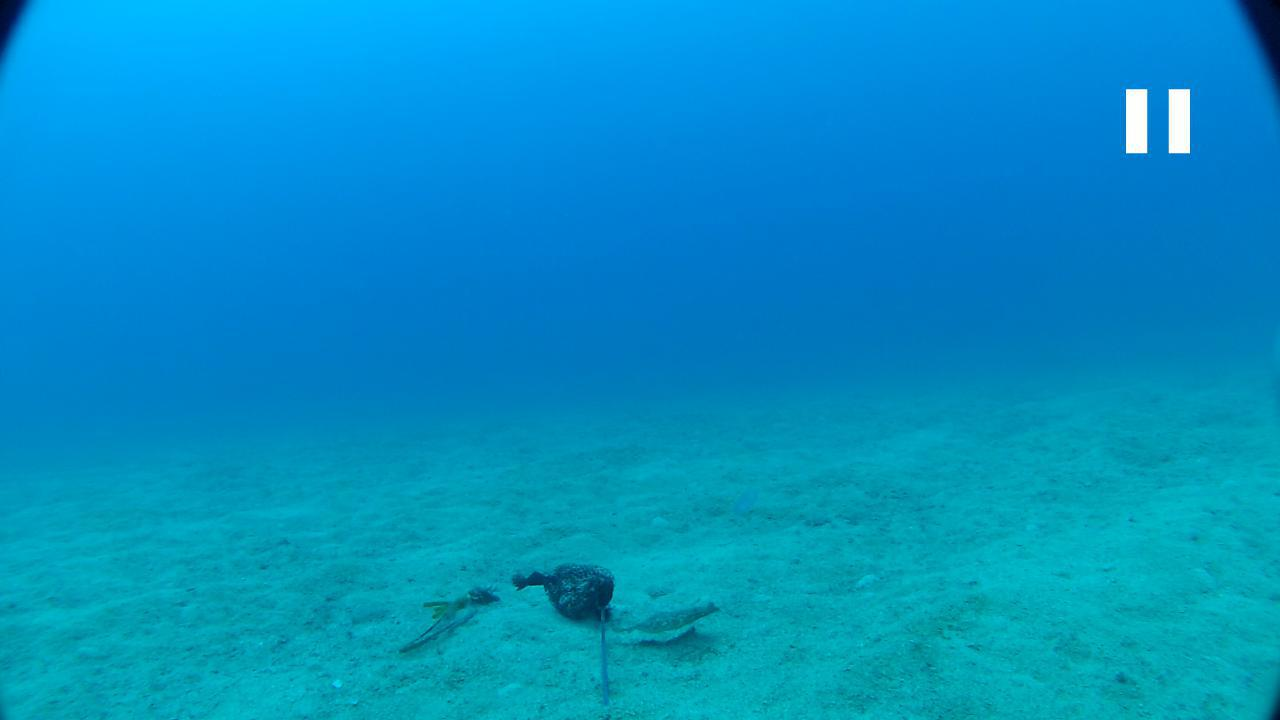bothus: (616, 600, 716, 636)
